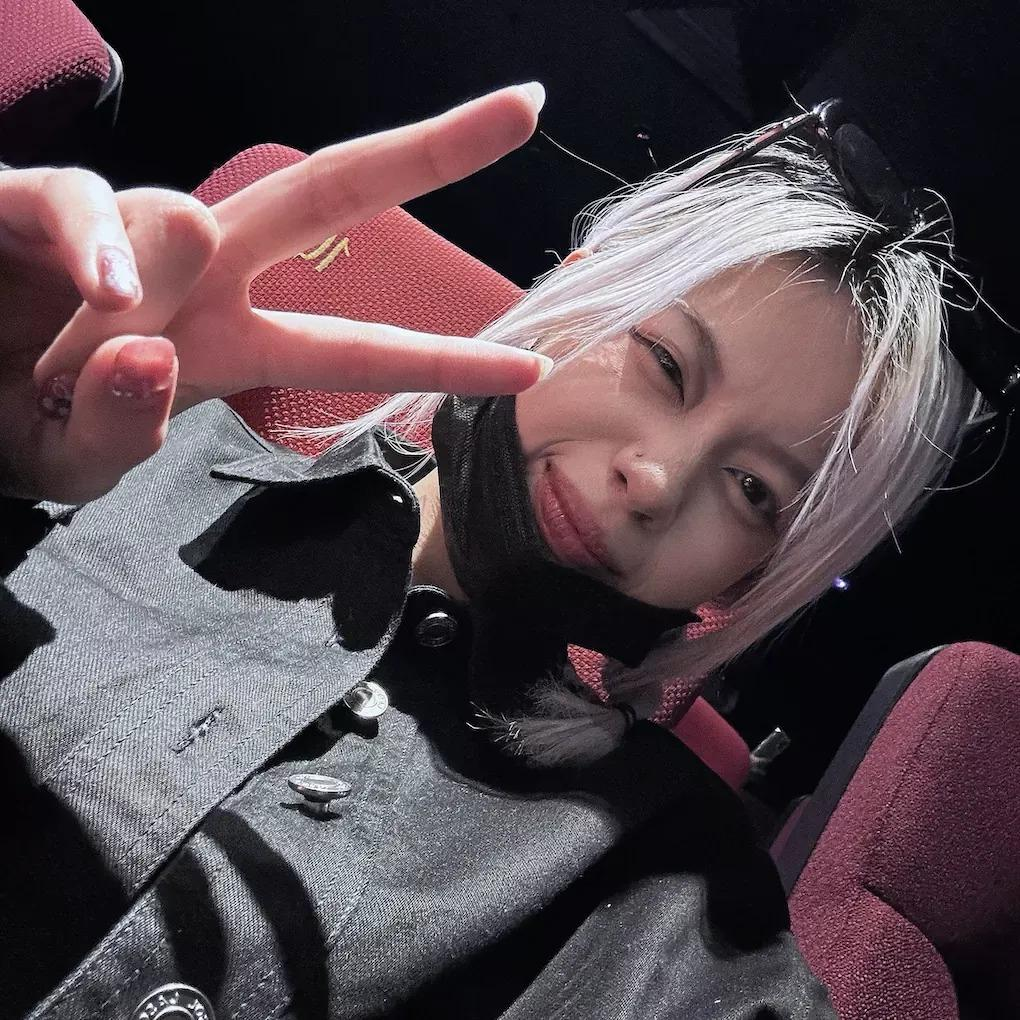non-dog: (1, 1, 997, 1020)
